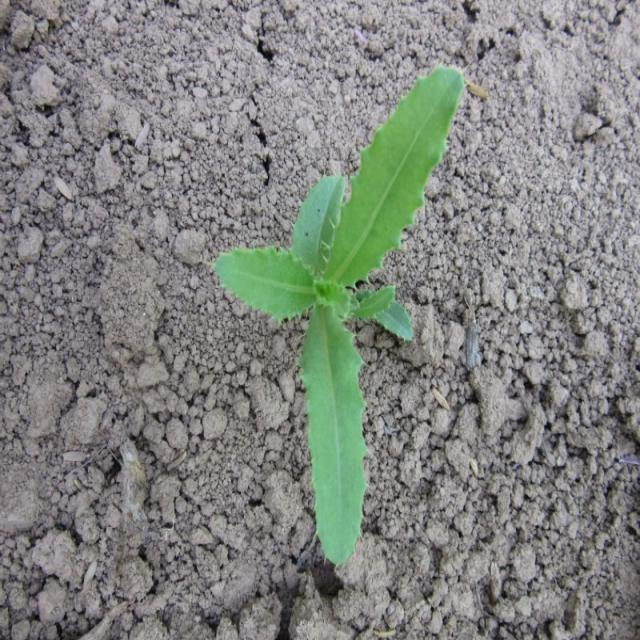field_thistle: (216, 65, 467, 546)
